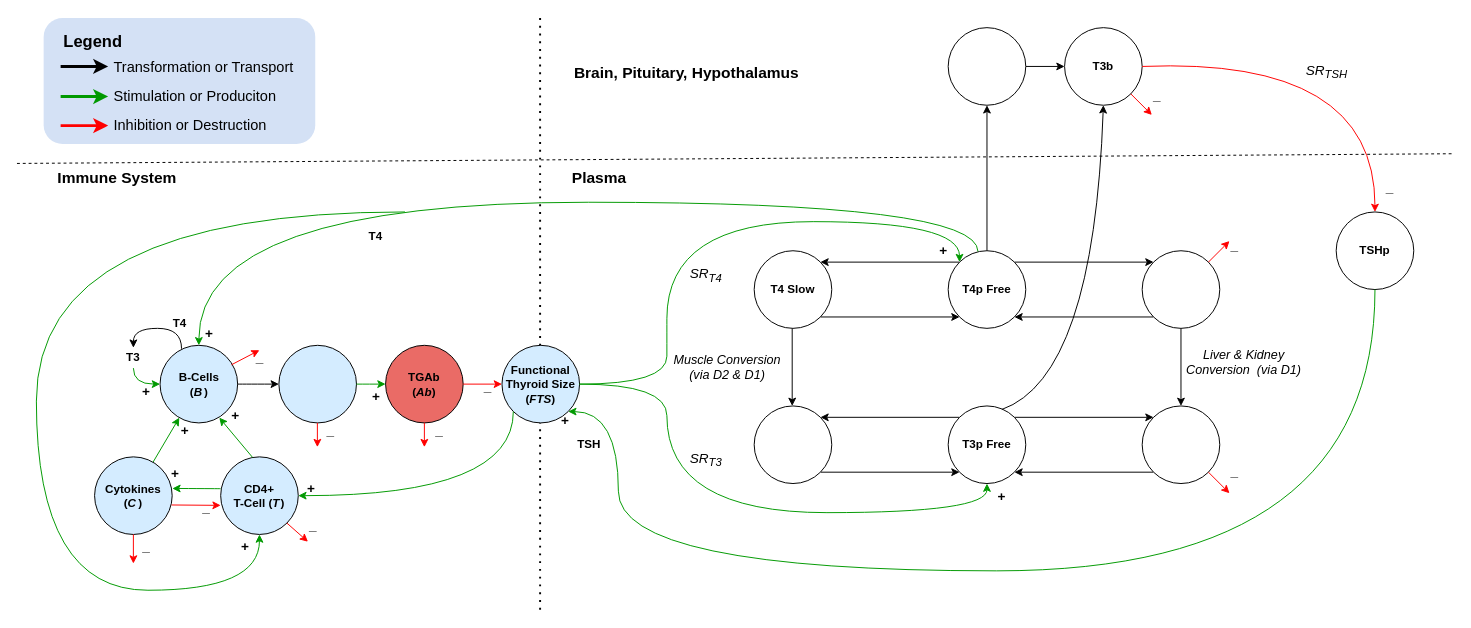
Some shapes in this 1471 by 628 pixel diagram are drawn without their labels. The centre of each missing label's shape, as x and y in pixels:
Plasma Cells ( P ): pixel 317 383
T3 Fast: pixel 1180 444
T3 Slow: pixel 792 444
T4 Fast: pixel 1180 289
T4b: pixel 986 66
